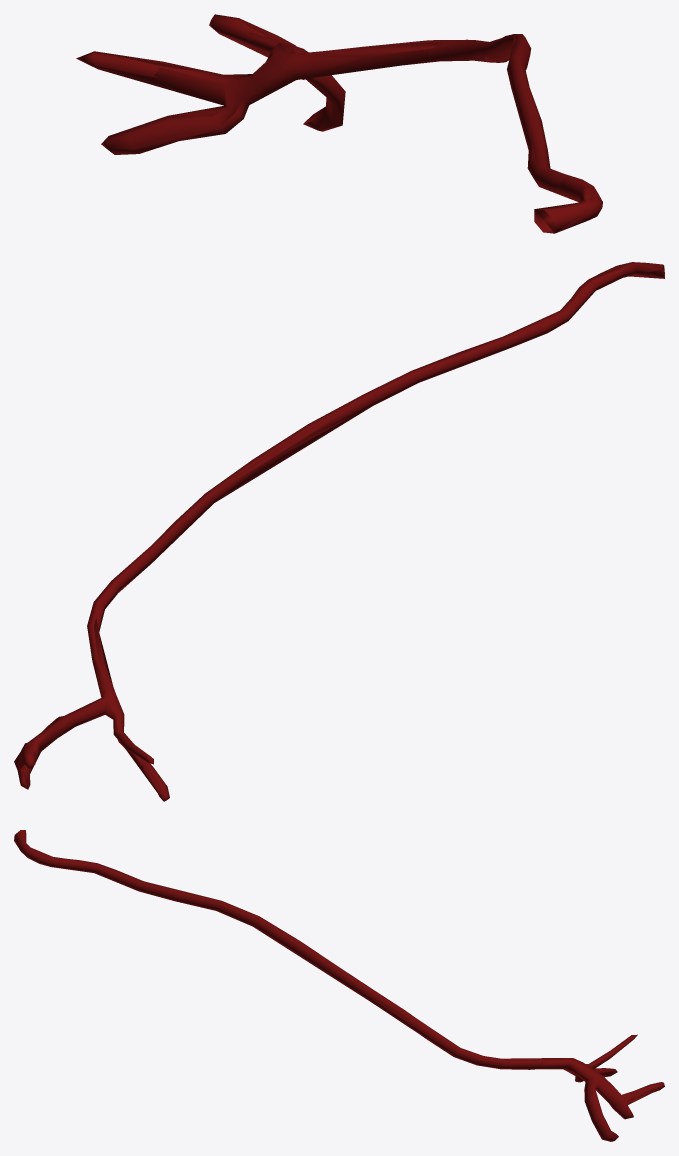
The model's file is L arteria vaginalis.fbx.
3 views of the same model, one above another, from view 1: azimuth 30°, elevation 25°; view 2: azimuth 150°, elevation 25°; view 3: azimuth 270°, elevation 25° (orthographic). The views are drawn at different scales.
Visible parts, largest first — view 1: L arteria vaginalis, L arteria vaginalis low; view 2: L arteria vaginalis, L arteria vaginalis low; view 3: L arteria vaginalis, L arteria vaginalis low.
Part boxes in pixels (x1,y1,x2,y2): L arteria vaginalis: [76, 14, 602, 233]; L arteria vaginalis low: [97, 19, 596, 233]; L arteria vaginalis: [14, 262, 664, 801]; L arteria vaginalis low: [16, 263, 664, 794]; L arteria vaginalis: [14, 830, 664, 1141]; L arteria vaginalis low: [14, 831, 661, 1138].
Size of the model in its own units: 6.06 by 6.4 by 17.01.
